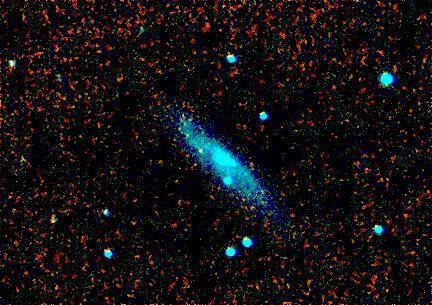star: (188, 135, 218, 165)
